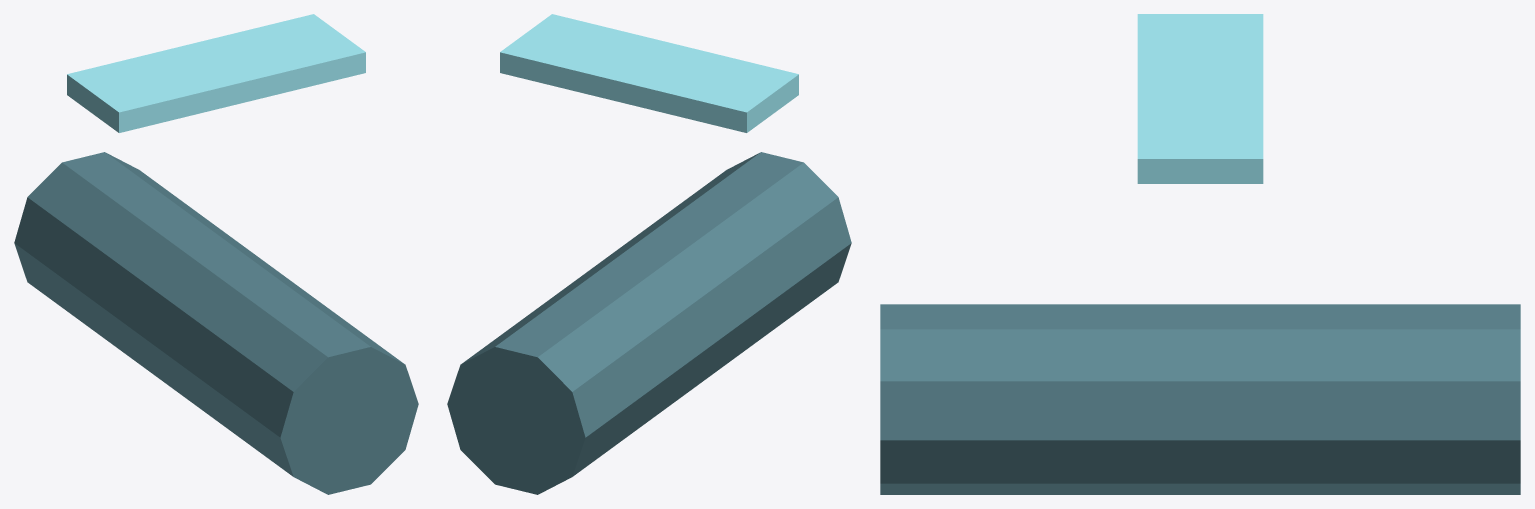
Rendered from vale-innovation-pylon-lod2.glb.
3 views of the same model, side by side, from view 1: azimuth 30°, elevation 25°; view 2: azimuth 150°, elevation 25°; view 3: azimuth 270°, elevation 25° (orthographic). The views are drawn at different scales.
Parts seen in each view (by area): view 1: column, cap; view 2: column, cap; view 3: column, cap.
Boxes of the visible parts, x1,y1,x2,y2 form: column: (14,152,418,494); cap: (67,14,365,132); column: (447,152,851,494); cap: (500,14,798,132); column: (880,304,1520,494); cap: (1137,14,1263,183).
Size of the model in its own units: 1.5 by 1.91 by 2.8.
